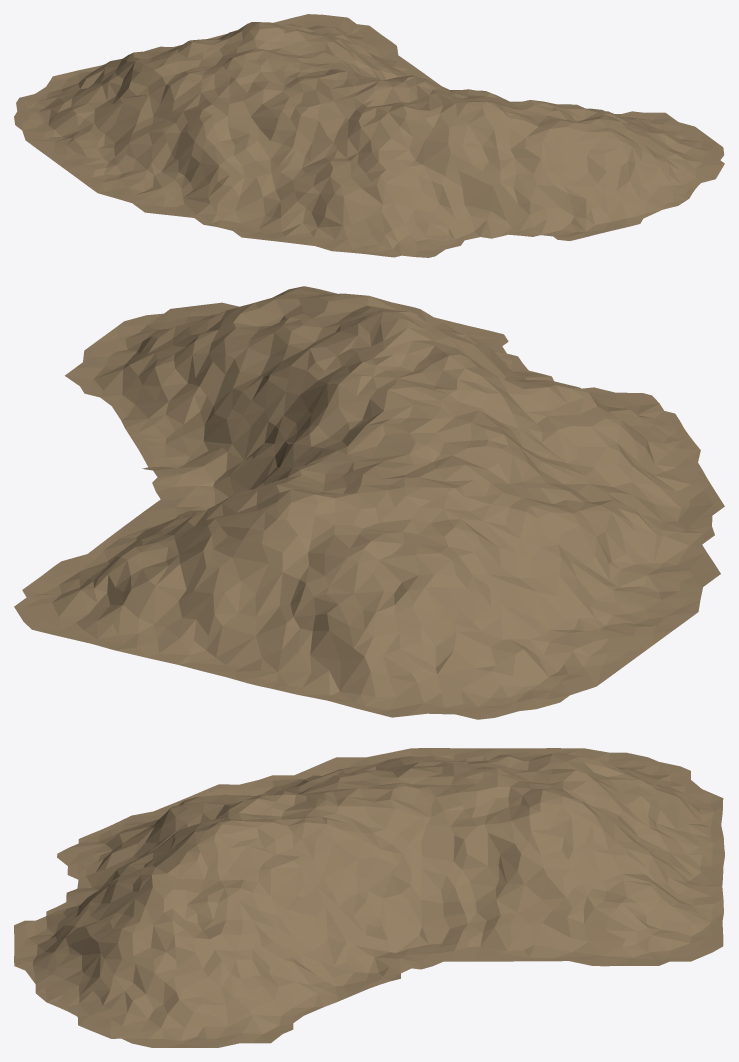
Rendered from LargeTerrain03.fbx.
The picture shows the model from 3 angles, top to bottom: view 1: azimuth 30°, elevation 25°; view 2: azimuth 150°, elevation 25°; view 3: azimuth 270°, elevation 25°; orthographic projection. The views are drawn at different scales.
Parts seen in each view (by area): view 1: LargeTerrain03; view 2: LargeTerrain03; view 3: LargeTerrain03.
Part boxes in pixels (x1,y1,x2,y2): LargeTerrain03: (14,14,724,257); LargeTerrain03: (14,286,724,719); LargeTerrain03: (14,748,724,1047).
Size of the model in its own units: 90.02 by 13.47 by 90.24.
